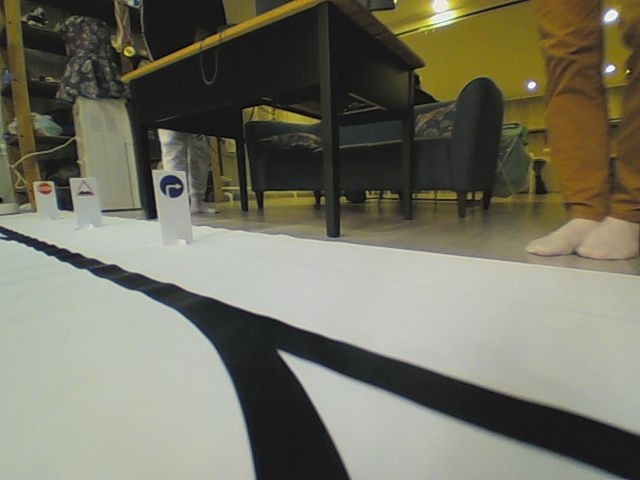Nerov: (75, 179, 94, 197)
Right: (157, 174, 185, 199)
